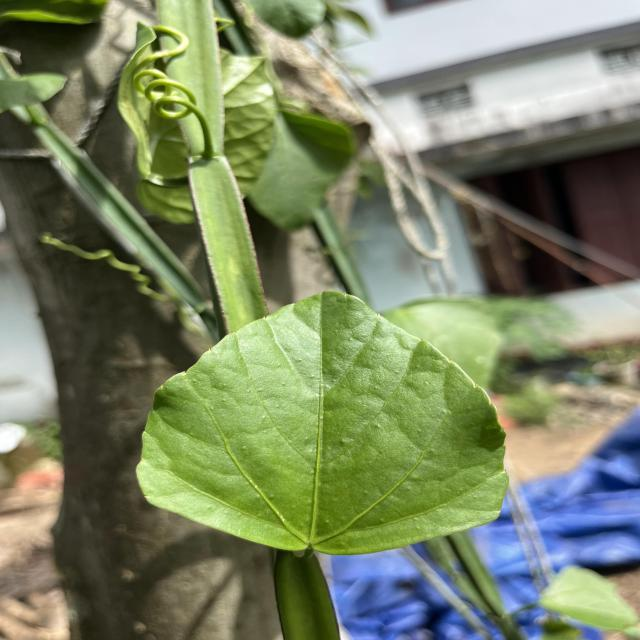Cissus quadrangularis: (132, 287, 514, 557)
